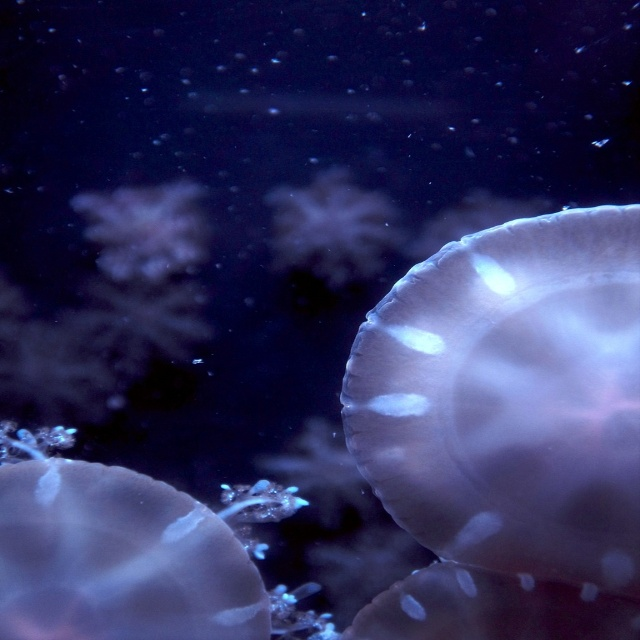Jellyfish: (330, 184, 640, 619), (0, 420, 341, 640)
